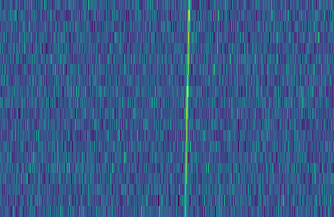signal: (180, 0, 193, 217)
